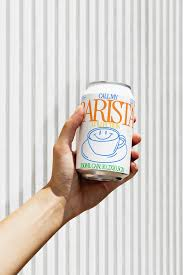can: (80, 81, 130, 180)
